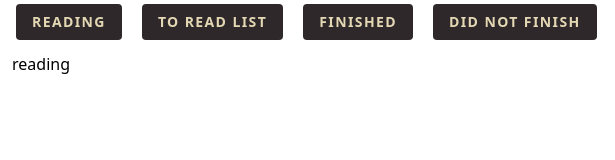
Test: test for mininav component › should change status after each button is clicked
This screenshot has width=615, height=160.
Click the button "Finished" at (358, 22), box [303,4,413,40]
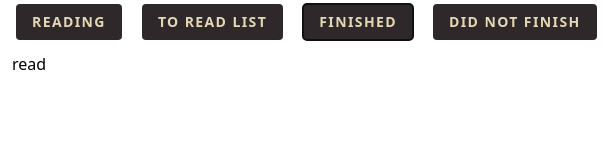
Expected: the text with test id "statusOutput" reads "read", [12,53,46,75]
Click the button "Reading" at (69, 22), box [16,4,122,40]
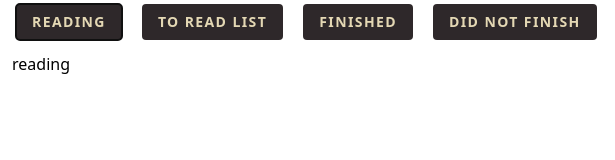
Result: the text with test id "statusOutput" reads "reading" at [12,53,70,75]
Click the button "Did not finish" at (515, 22), box [433,4,597,40]
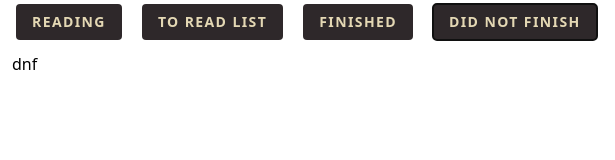
Result: the text with test id "statusOutput" reads "dnf" at [12,53,37,75]
Click the button "To read list" at (213, 22), box [142,4,283,40]
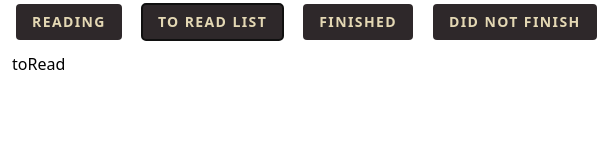
Result: the text with test id "statusOutput" reads "toRead" at [12,53,65,75]
